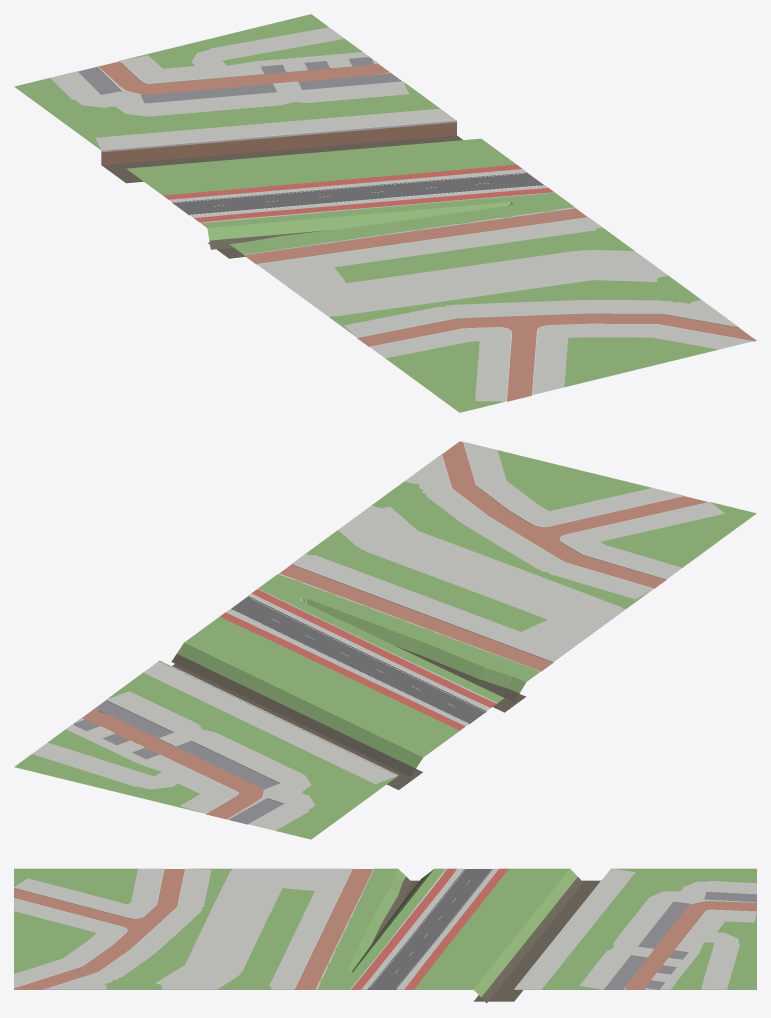
The model's file is ground_13_10.glb.
The picture shows the model from 3 angles, top to bottom: view 1: azimuth 30°, elevation 25°; view 2: azimuth 150°, elevation 25°; view 3: azimuth 270°, elevation 25°; orthographic projection. The views are drawn at different scales.
Visible parts, largest first — view 1: ground_13_10; view 2: ground_13_10; view 3: ground_13_10.
Part boxes in pixels (x1=…): ground_13_10: x1=14, y1=14, x2=756, y2=412; ground_13_10: x1=14, y1=441, x2=756, y2=839; ground_13_10: x1=14, y1=868, x2=756, y2=1003.
Size of the model in its own units: 79.42 by 3.68 by 200.
